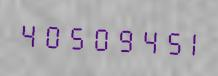five: (63, 17, 85, 54), (155, 22, 177, 59)
four: (17, 15, 39, 52), (132, 21, 154, 58)
nine: (109, 20, 131, 57)
one: (178, 23, 200, 60)
zero: (40, 16, 62, 53), (86, 18, 108, 55)
